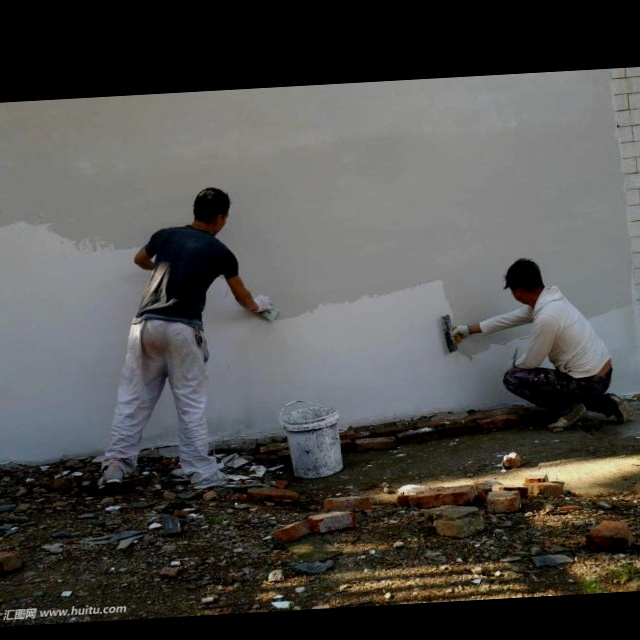Sin_Casco_Mascarrilla: (191, 185, 232, 234), (502, 256, 544, 303)
